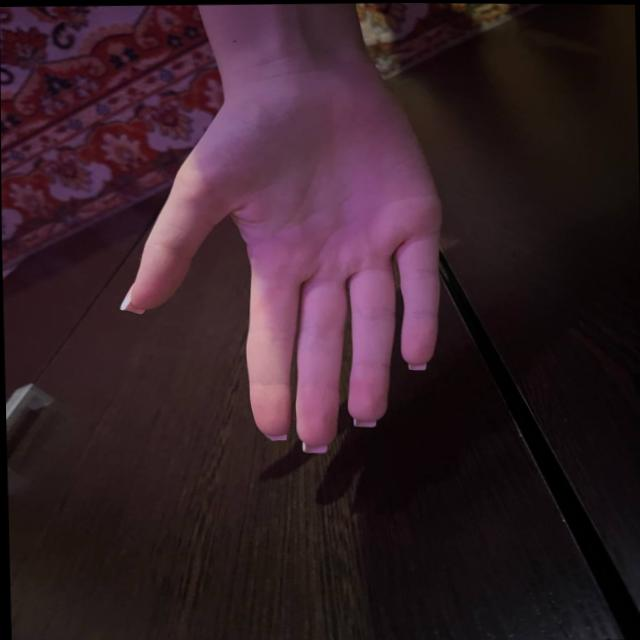v: (111, 120, 465, 472)
